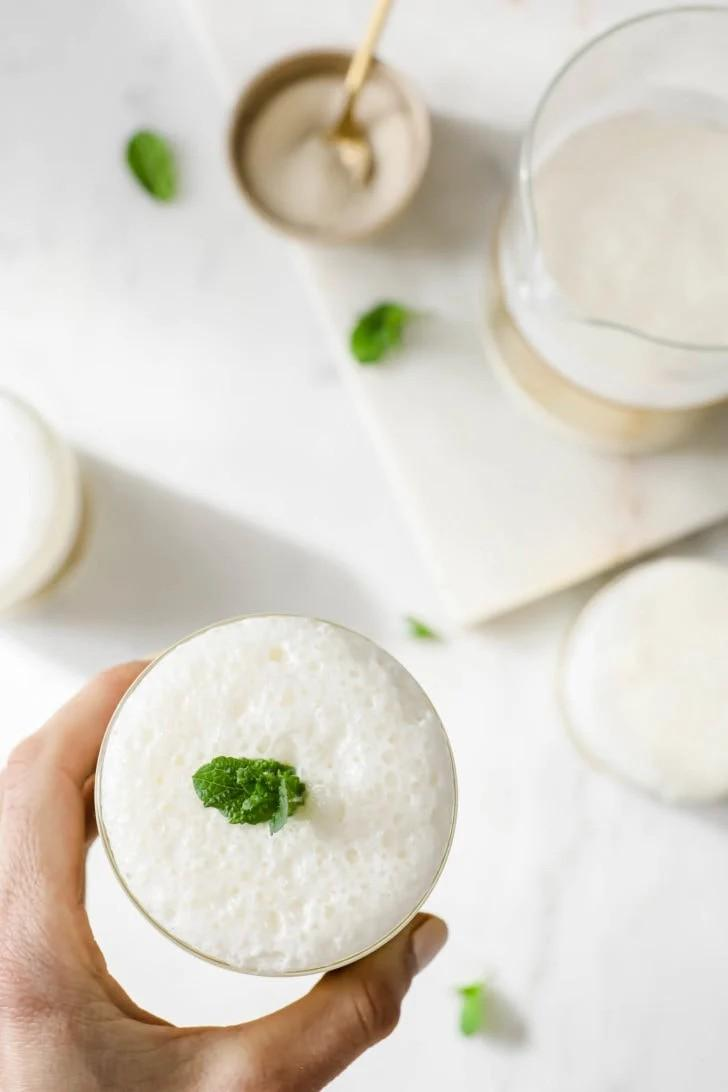Lassi: (94, 618, 455, 976)
